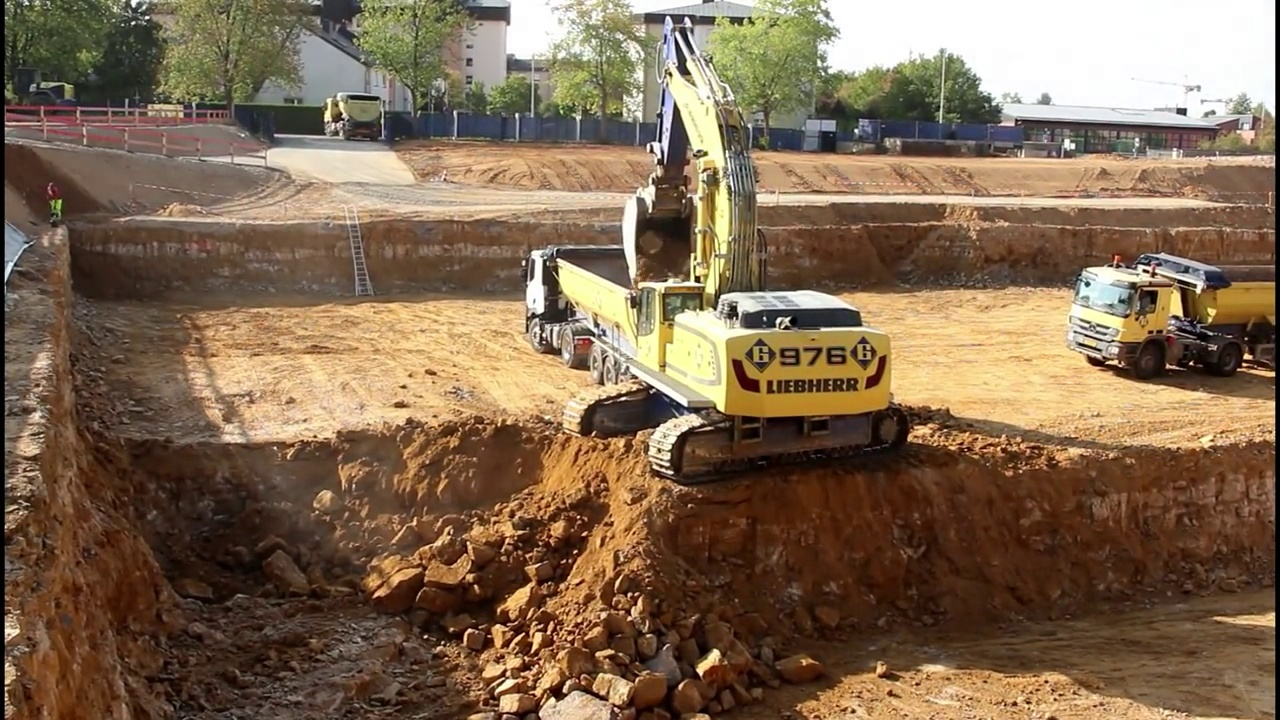dumper: (1072, 252, 1280, 378), (520, 244, 638, 382), (314, 89, 382, 140)
excavator: (562, 11, 908, 479)
